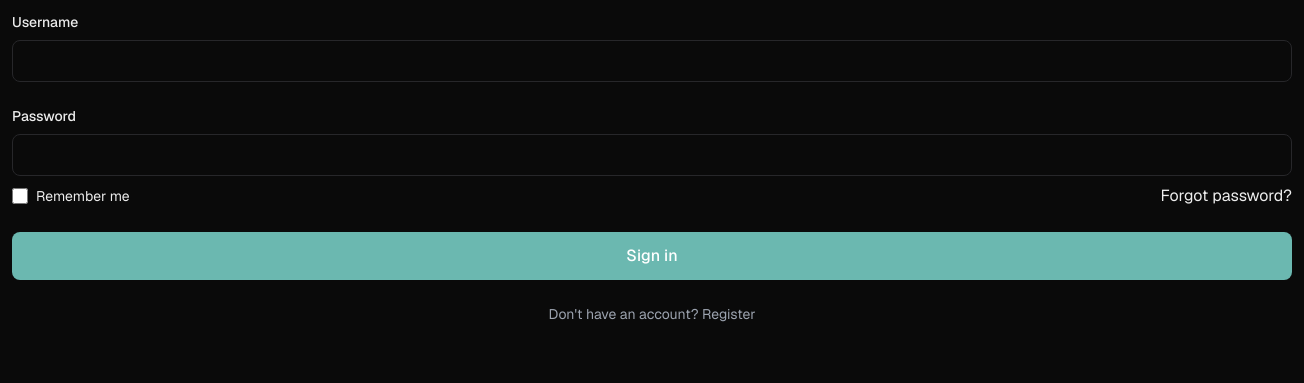
LoginForm › shows error on failed login
Type "testuser" into the field labelled "Username".
click(652, 61); type("testuser")  # box x1=12 y1=40 x2=1292 y2=82
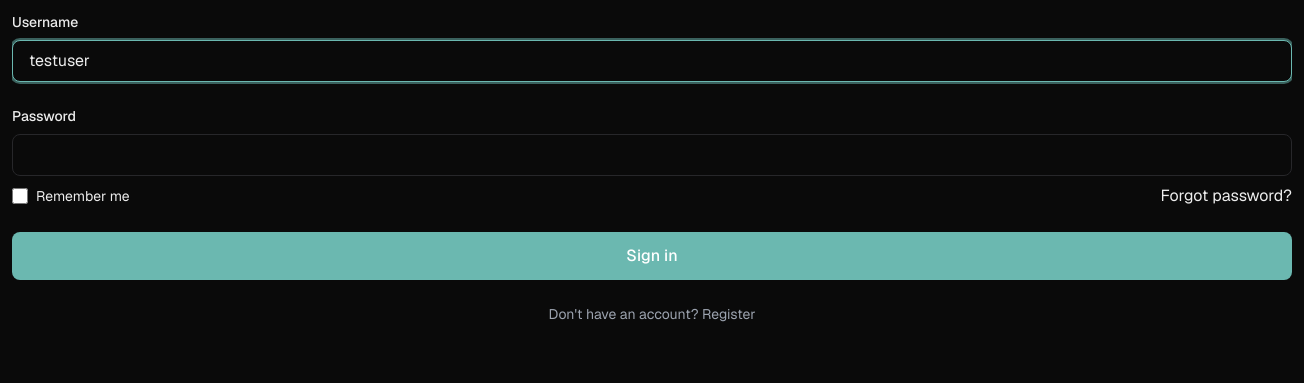
Type "wrong" into the password field labelled "Password".
click(652, 155); type("wrong")  # box x1=12 y1=134 x2=1292 y2=176
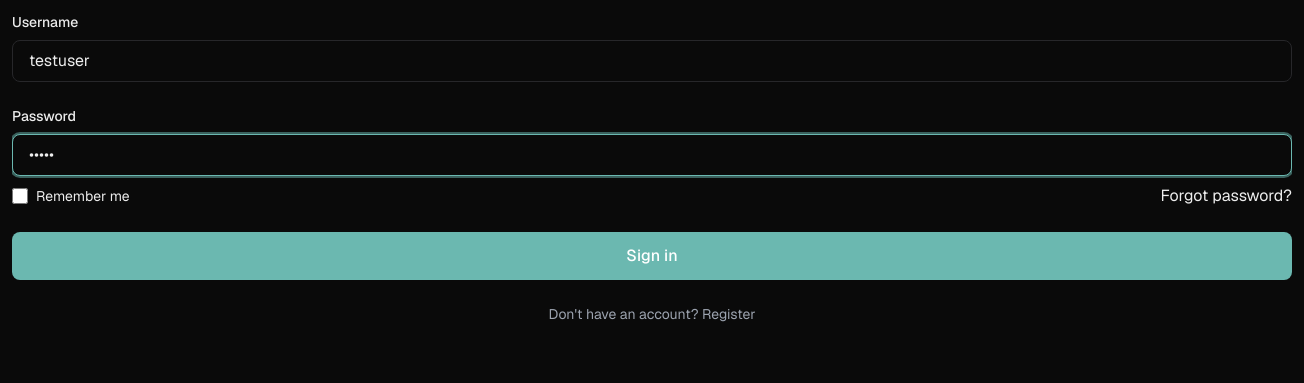
Click the button "Sign in".
click(652, 256)  # box x1=12 y1=232 x2=1292 y2=280
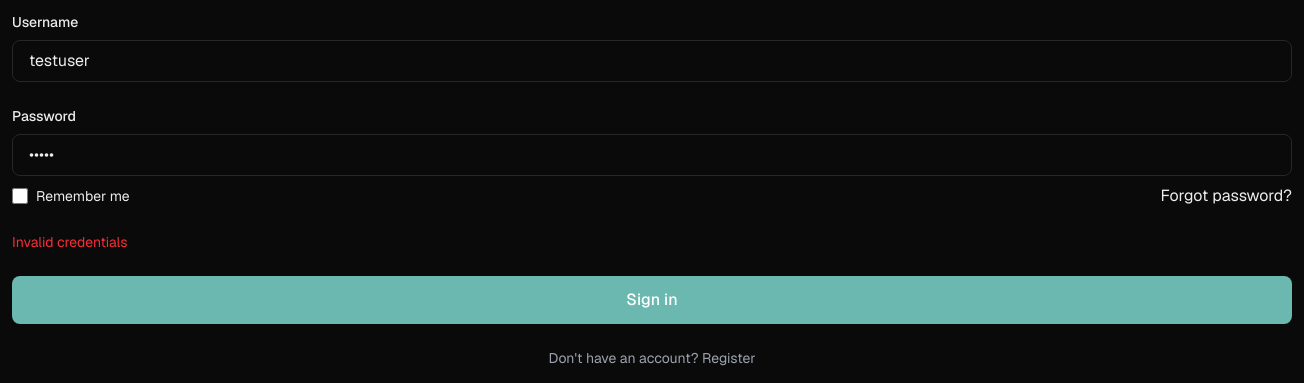
Now the text "Invalid credentials" is shown, box x1=12 y1=233 x2=128 y2=251
